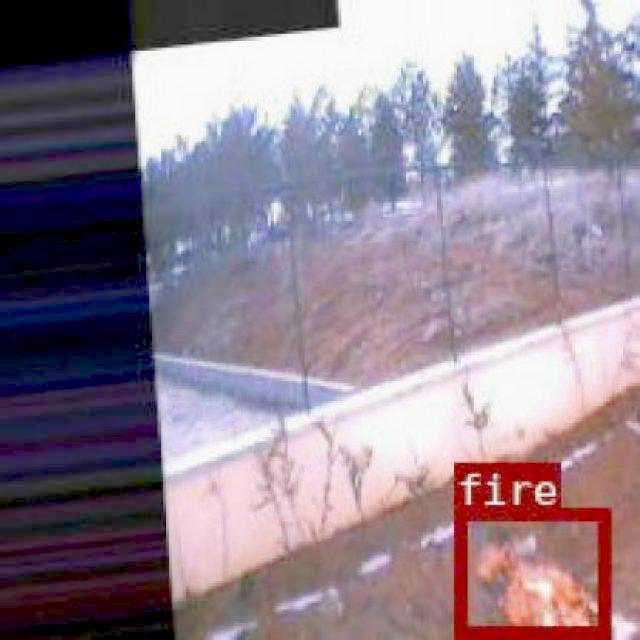fire: (452, 506, 606, 634)
